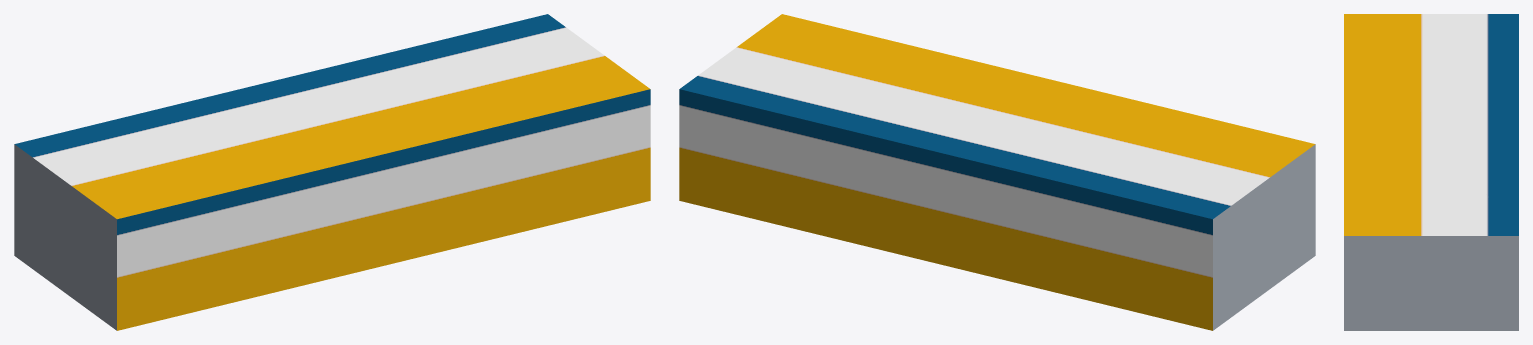
Rendered from crate.glb.
The picture shows the model from 3 angles, left to right: view 1: azimuth 30°, elevation 25°; view 2: azimuth 150°, elevation 25°; view 3: azimuth 270°, elevation 25°; orthographic projection. The views are drawn at different scales.
Parts seen in each view (by area): view 1: Crate_Block.001; view 2: Crate_Block.001; view 3: Crate_Block.001.
Boxes of the visible parts, x1,y1,x2,y2 form: Crate_Block.001: (14,14,650,330); Crate_Block.001: (679,14,1315,330); Crate_Block.001: (1344,14,1518,330).
Size of the model in its own units: 0.075 by 0.015 by 0.025.
Materials: 4 (3 with a texture image).
